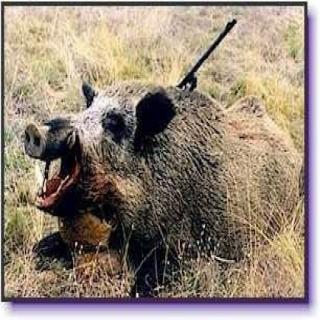Pig: (7, 63, 320, 294)
